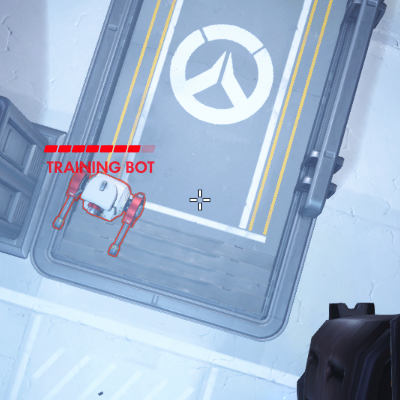hpbar: (43, 144, 156, 153)
